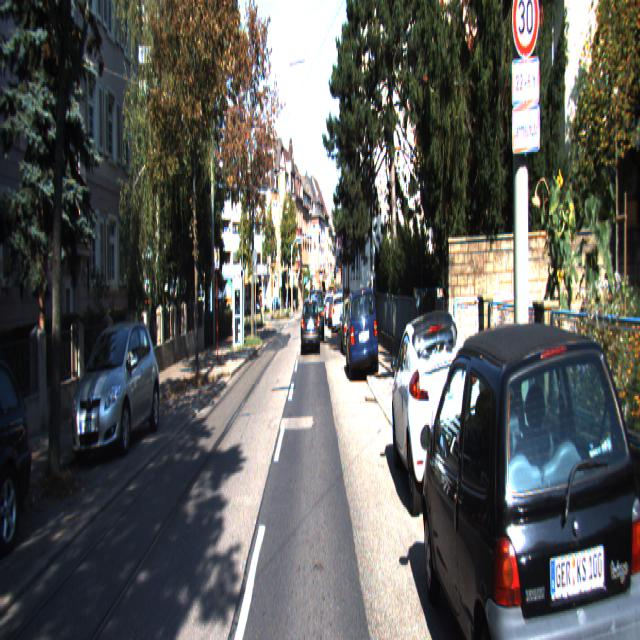Car: (420, 307, 640, 638), (390, 300, 484, 532), (67, 319, 161, 468), (0, 337, 38, 568), (346, 283, 380, 384), (340, 294, 361, 358), (301, 296, 320, 358), (309, 286, 325, 342), (332, 292, 346, 334)
